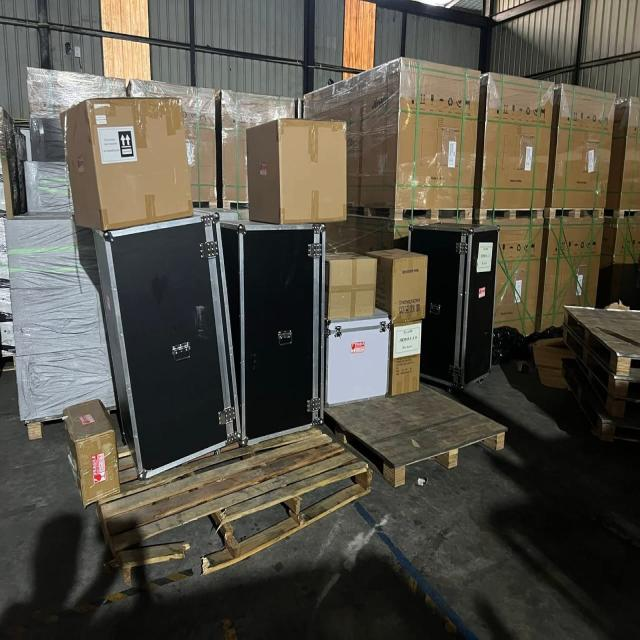carton_box: (60, 91, 201, 223), (363, 62, 483, 216), (240, 107, 358, 236), (485, 56, 552, 212), (553, 78, 617, 213), (548, 195, 606, 334), (489, 202, 547, 340), (319, 243, 379, 324), (388, 248, 427, 333), (387, 323, 426, 398)
fragile_label: (510, 94, 520, 124), (428, 90, 437, 110)
keep_dry_label: (517, 99, 525, 119), (440, 94, 445, 110)
this_side_up_label: (118, 127, 140, 162), (499, 95, 512, 123), (417, 83, 426, 111)
wooden_box: (75, 202, 239, 490), (217, 203, 330, 445), (413, 225, 500, 378), (326, 304, 392, 414)
